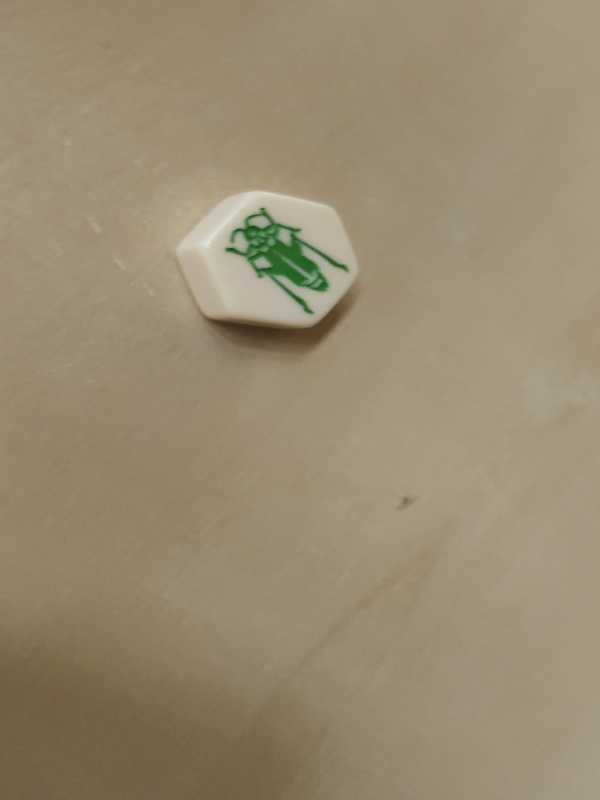white_grasshopper: (176, 185, 362, 345)
